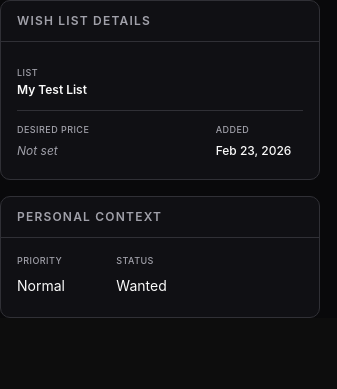
Test: WishlistItemSidebar — US3 Desired Price inline edit › entering negative value shows inline error
Click the button with aria-label "Edit Desired Price" at (57, 150), box [13, 138, 100, 162]
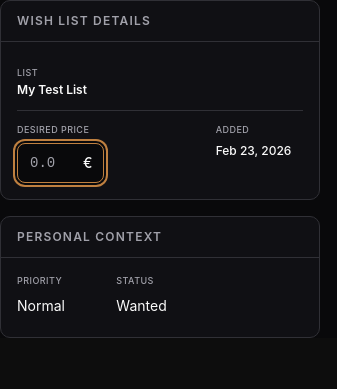
Type "-5" into the field at (61, 162), box [17, 142, 104, 182]
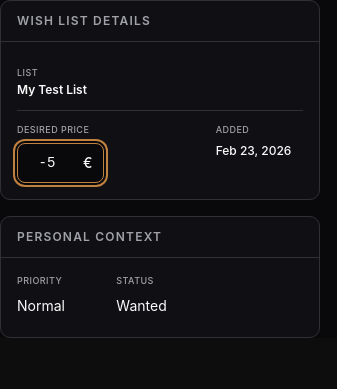
Press Enter
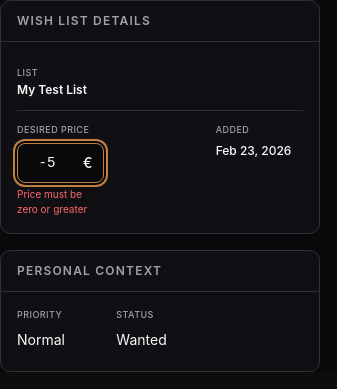
Result: the text "Price must be zero or greater" is shown at [17, 188, 87, 214]
